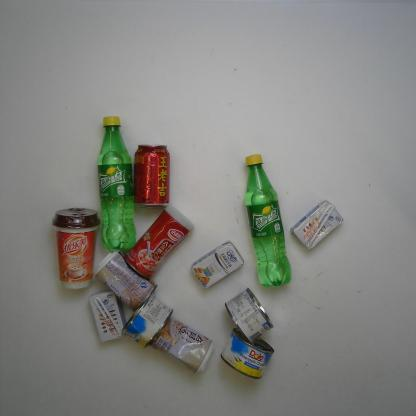Canned Food: (123, 202, 196, 282), (90, 248, 160, 313), (147, 314, 217, 376), (120, 289, 175, 352), (218, 325, 276, 381), (223, 286, 275, 344)
Drink: (242, 152, 293, 290), (94, 114, 138, 254), (131, 142, 172, 211)
Instant Drink: (50, 204, 102, 292)
Milk: (288, 198, 344, 252), (190, 238, 245, 290), (87, 288, 127, 347)
